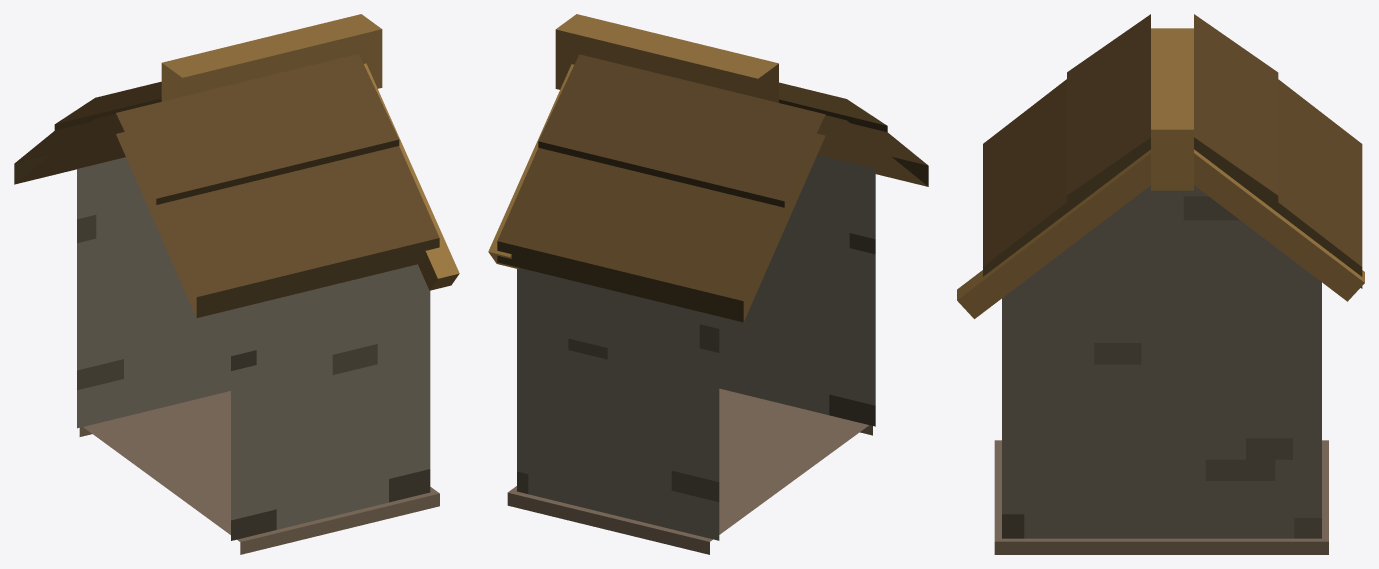
File: SF_Bld_HouseAdd_StoneRoom_02.fbx
The picture shows the model from 3 angles, left to right: view 1: azimuth 30°, elevation 25°; view 2: azimuth 150°, elevation 25°; view 3: azimuth 270°, elevation 25°; orthographic projection. The views are drawn at different scales.
Parts seen in each view (by area): view 1: SF_Bld_HouseAdd_StoneRoom_02; view 2: SF_Bld_HouseAdd_StoneRoom_02; view 3: SF_Bld_HouseAdd_StoneRoom_02.
Part boxes in pixels (left/top/right/bottom): SF_Bld_HouseAdd_StoneRoom_02: left=14, top=14, right=459, bottom=554; SF_Bld_HouseAdd_StoneRoom_02: left=488, top=14, right=928, bottom=554; SF_Bld_HouseAdd_StoneRoom_02: left=957, top=14, right=1364, bottom=554.
Size of the model in its own units: 4.35 by 6.52 by 5.55.
